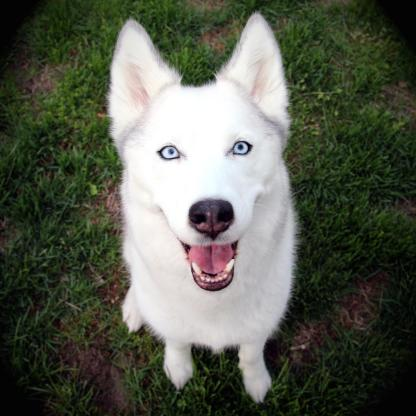dog: (97, 13, 299, 403)
